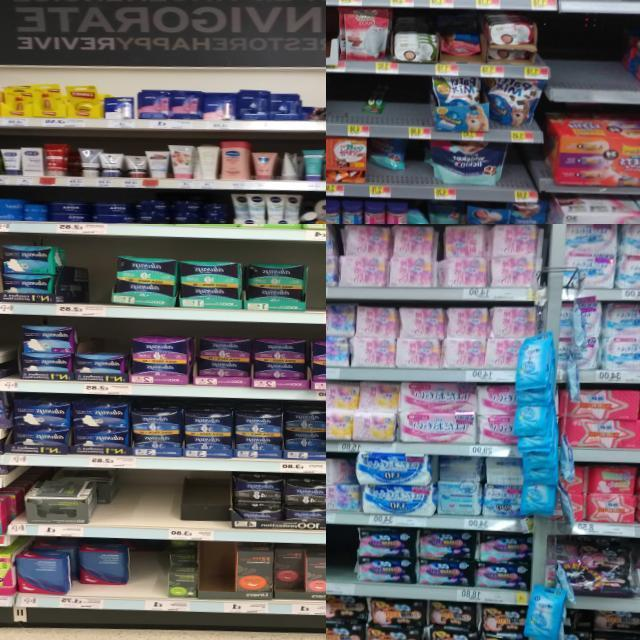empty: (550, 17, 628, 103), (118, 468, 182, 540), (388, 75, 428, 139), (326, 73, 363, 137), (128, 550, 166, 610), (326, 524, 354, 594), (86, 248, 112, 317), (508, 144, 537, 202), (306, 256, 326, 324), (406, 142, 425, 198)
